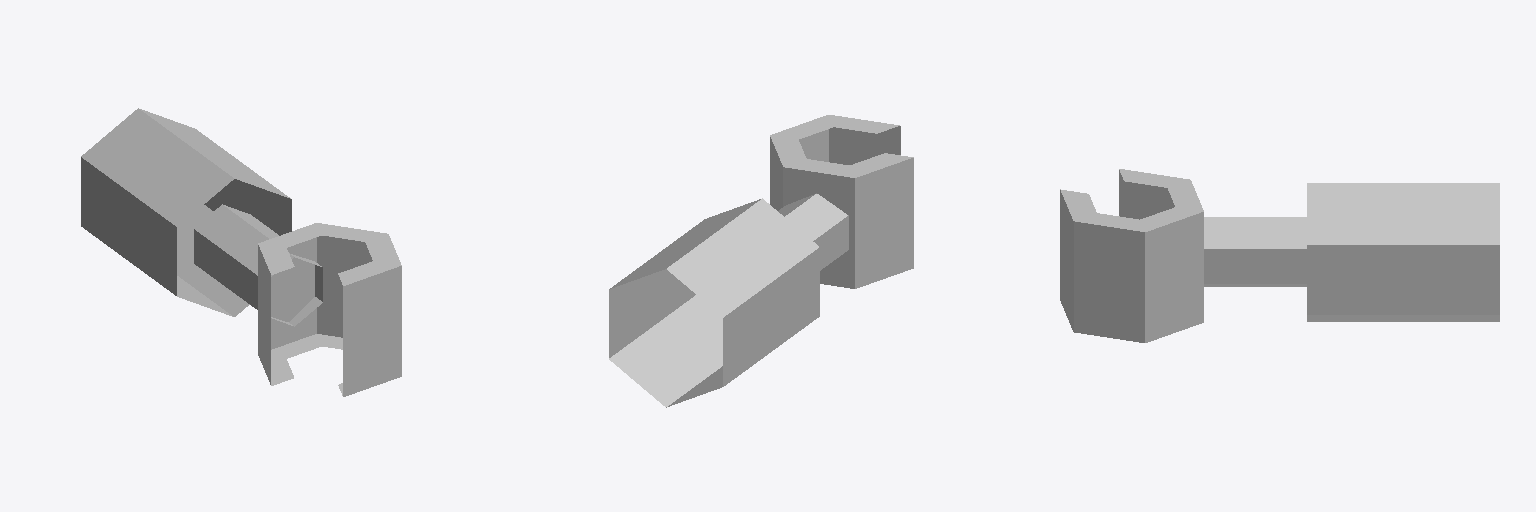
The model's file is mego-man-arm.obj.
3 renders of one model, left to right at view 1: azimuth 30°, elevation 25°; view 2: azimuth 150°, elevation 25°; view 3: azimuth 270°, elevation 25°, orthographic.
Parts seen in each view (by area): view 1: Cylinder, Cylinder.001, Cylinder.002; view 2: Cylinder, Cylinder.001, Cylinder.002; view 3: Cylinder, Cylinder.001, Cylinder.002.
Part boxes in pixels (x1,y1,x2,y2): Cylinder: (81, 108, 291, 316); Cylinder.001: (258, 223, 401, 396); Cylinder.002: (194, 204, 322, 326); Cylinder: (609, 198, 819, 407); Cylinder.001: (770, 115, 913, 288); Cylinder.002: (778, 193, 848, 270); Cylinder: (1307, 183, 1499, 321); Cylinder.001: (1060, 169, 1203, 342); Cylinder.002: (1204, 217, 1306, 286).
Size of the model in its own units: 0.4927 by 0.5 by 1.43.